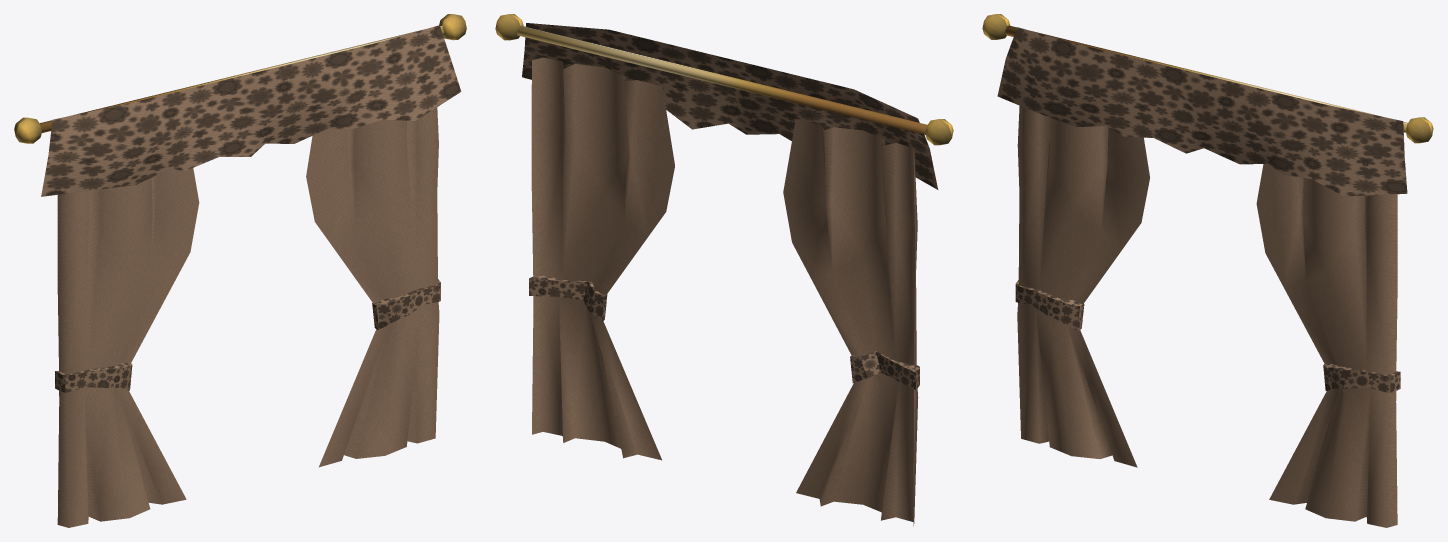
File: Curtains_01_N.FBX
3 renders of one model, left to right at view 1: azimuth 30°, elevation 25°; view 2: azimuth 150°, elevation 25°; view 3: azimuth 330°, elevation 25°, orthographic.
Parts seen in each view (by area): view 1: Curtains_01; view 2: Curtains_01; view 3: Curtains_01.
Part boxes in pixels (x1=…): Curtains_01: x1=14, y1=14, x2=466, y2=527; Curtains_01: x1=495, y1=14, x2=953, y2=526; Curtains_01: x1=982, y1=14, x2=1433, y2=527.
Bounding box in the file's own units: 251 × 221 × 25.59.
